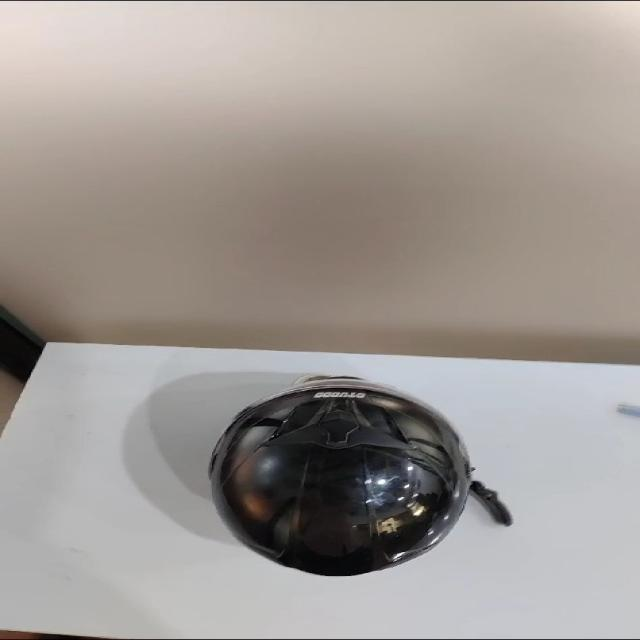helmet: (198, 368, 502, 587)
